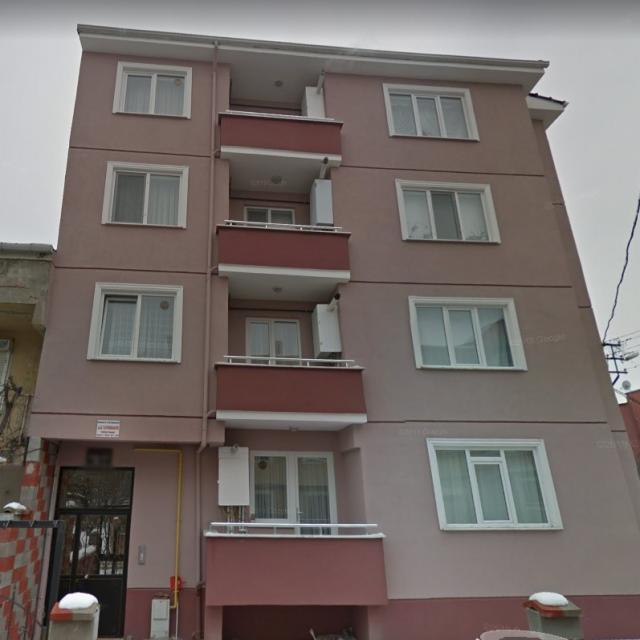Building: (15, 26, 640, 640)
